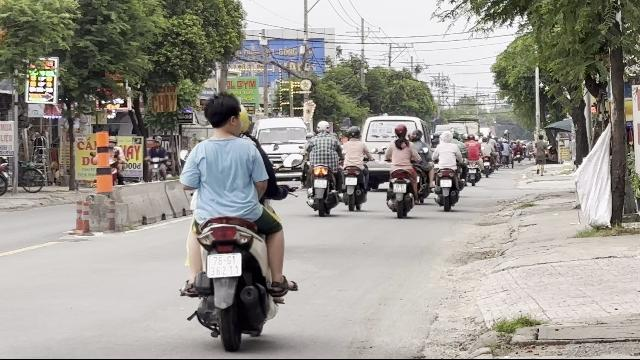licenseplate: (207, 254, 241, 278)
motorcyclist: (170, 90, 298, 348)
nohelmet: (201, 92, 243, 136)
